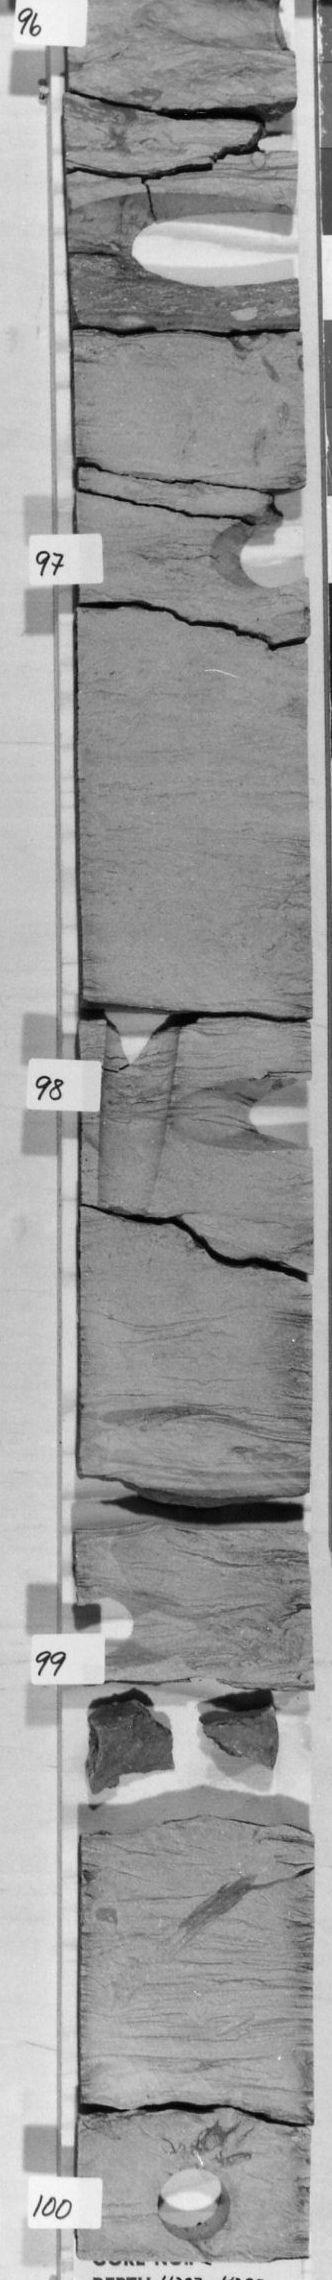hplug: (178, 1072, 309, 1159), (154, 1, 293, 60), (76, 1586, 170, 1669), (205, 519, 307, 595), (150, 2162, 234, 2242)
scal: (68, 189, 300, 294)
vplug: (95, 1003, 178, 1216)
